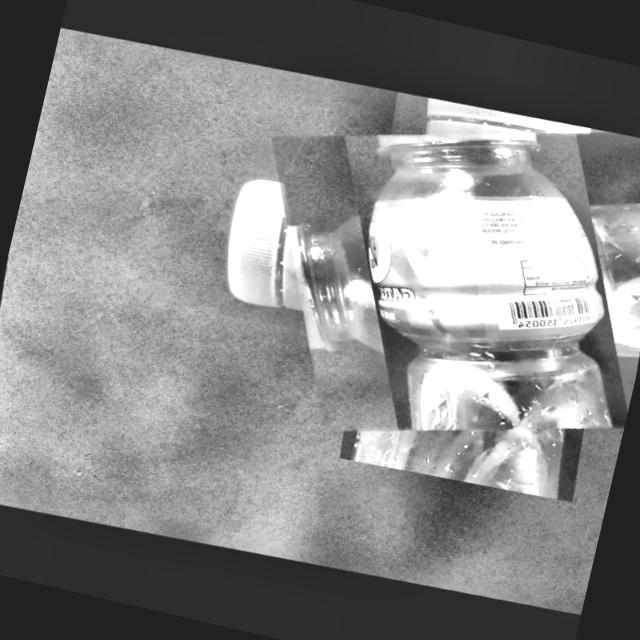Plastic-Bottle: (229, 66, 640, 483)
